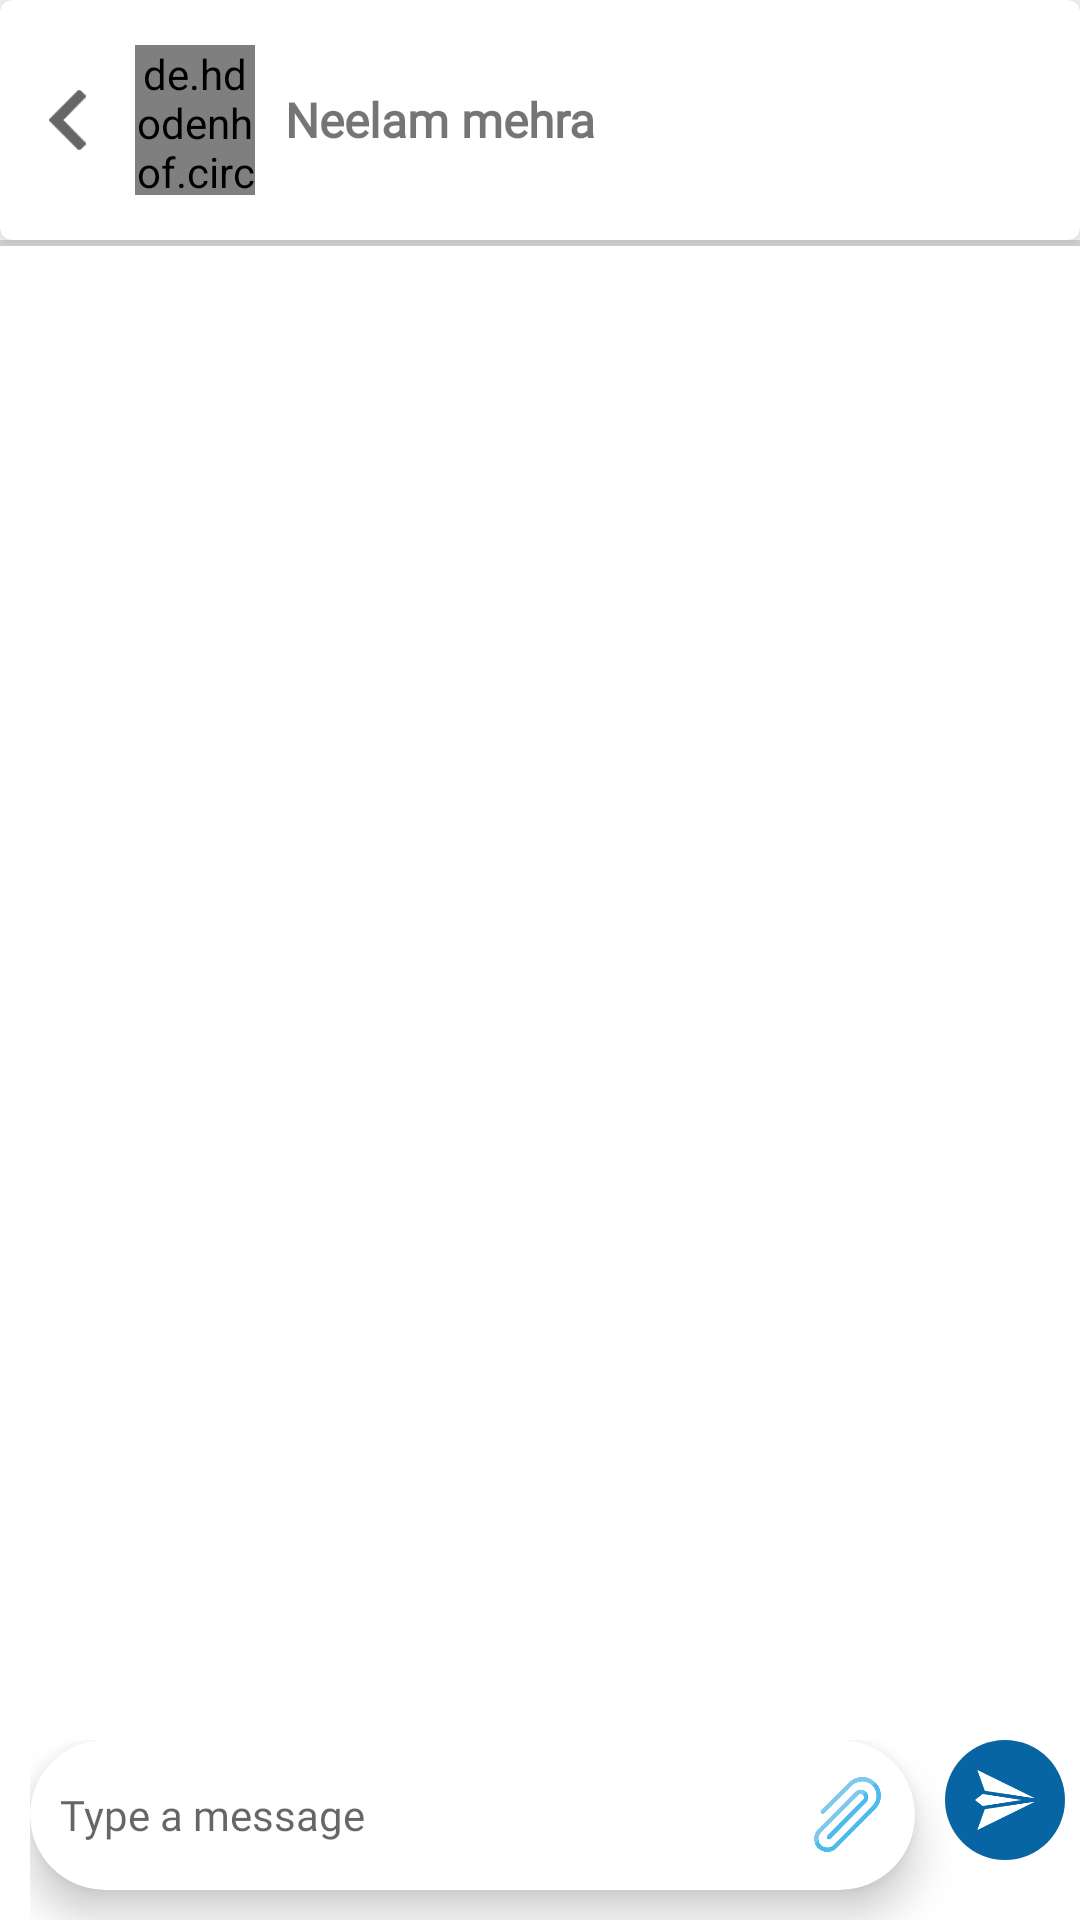

Icons on this 1080px×1920px Android screen, each with its box as box=[x1, y1, x2, y2]:
attach: box=[814, 1777, 881, 1852]
back: box=[49, 90, 86, 150]
sendwhite: box=[975, 1770, 1035, 1830]
